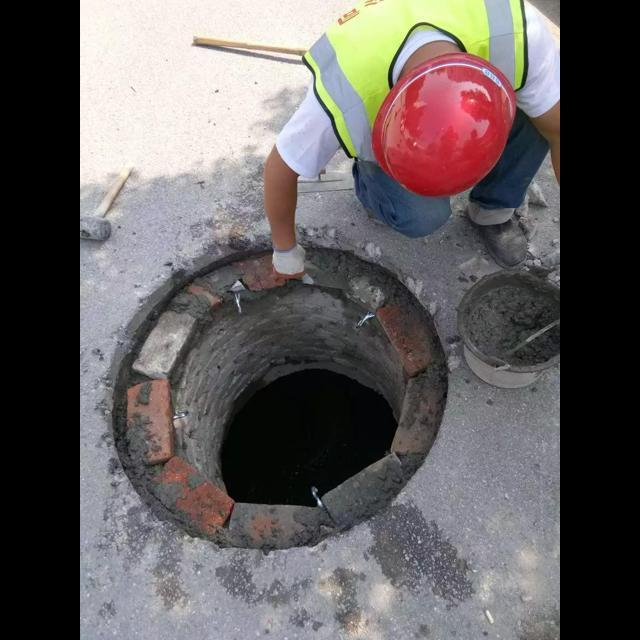helmet: (371, 45, 526, 200)
safety_vest: (282, 38, 552, 156)
